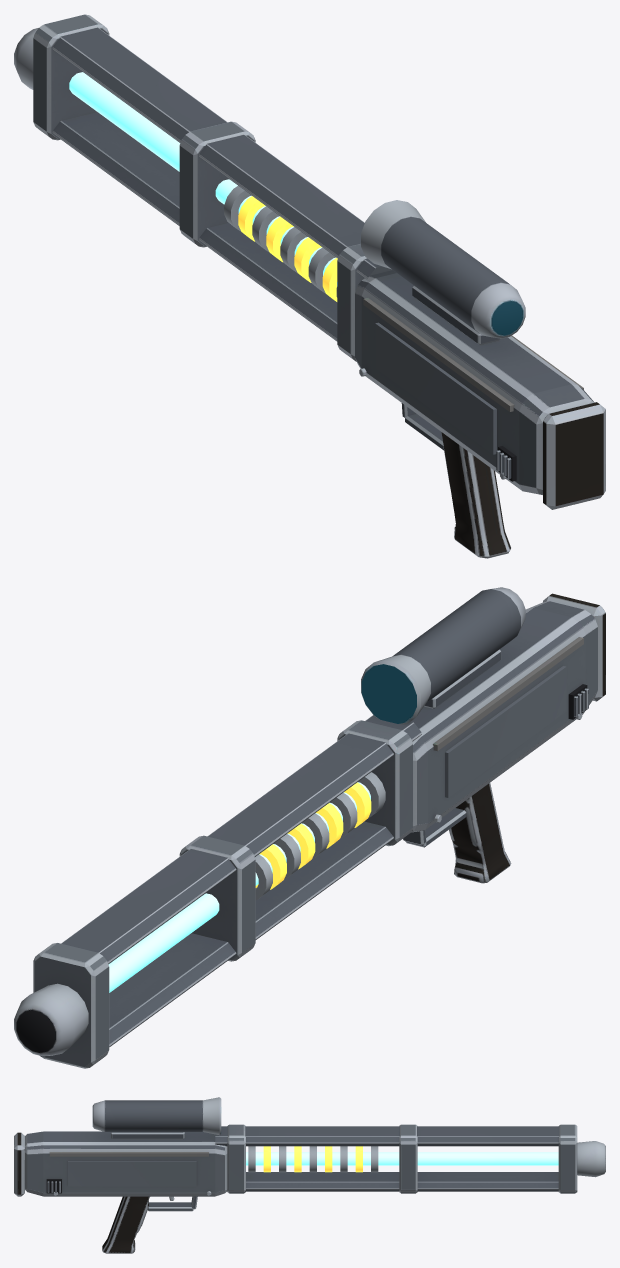
The picture shows the model from 3 angles, top to bottom: view 1: azimuth 30°, elevation 25°; view 2: azimuth 150°, elevation 25°; view 3: azimuth 270°, elevation 25°; orthographic projection. The views are drawn at different scales.
Visible parts, largest first — view 1: body; view 2: body; view 3: body.
Part boxes in pixels (x1,y1,x2,y2): body: (14, 14, 605, 558); body: (14, 587, 605, 1068); body: (14, 1097, 605, 1253).
Size of the model in its own units: 0.083 by 0.2708 by 0.965.
1 material, 1 textured.
